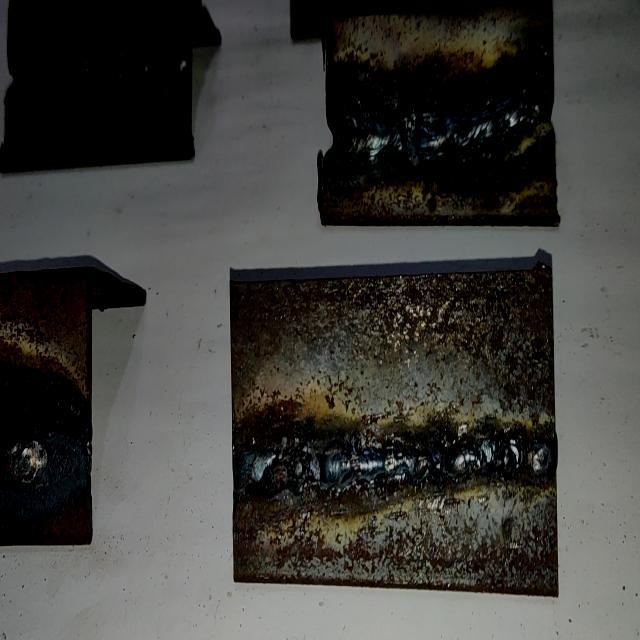Defect: (279, 426, 551, 509), (391, 91, 439, 173), (522, 28, 554, 132)
Welding Line: (334, 42, 551, 158), (235, 432, 547, 501), (14, 45, 190, 93)
Workpiece: (230, 276, 555, 594), (322, 0, 554, 222), (9, 4, 192, 161), (0, 267, 88, 547)
